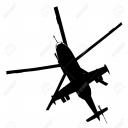helicopter: (7, 7, 123, 124)
